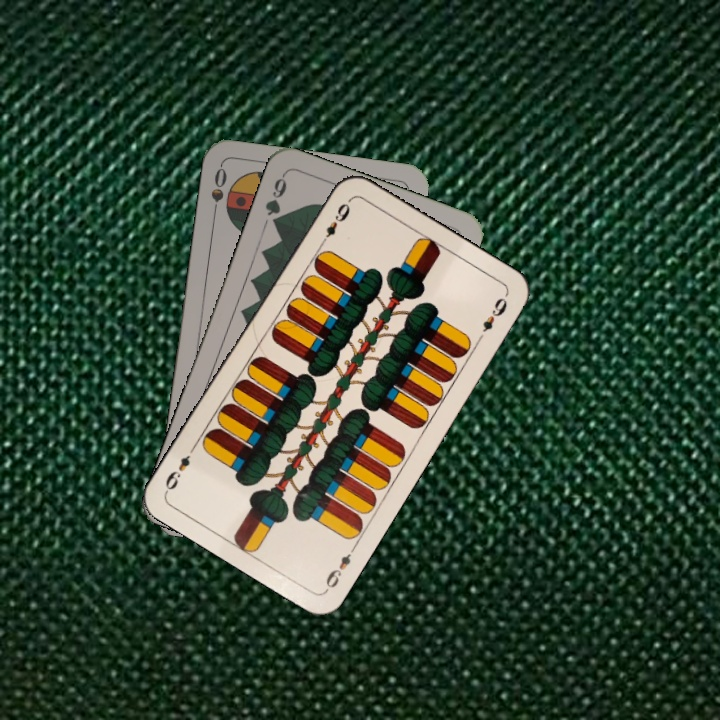E9: (321, 541, 360, 593), (315, 196, 353, 249)
G9: (261, 170, 290, 231)
SO: (207, 163, 230, 222)
